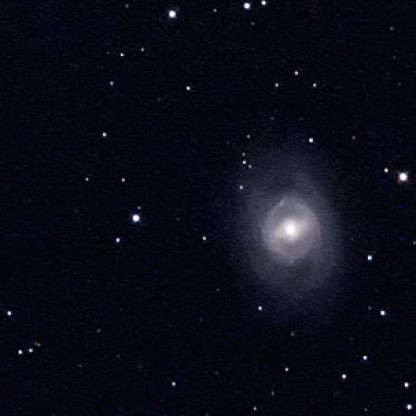Messier 95: (214, 149, 361, 319)
